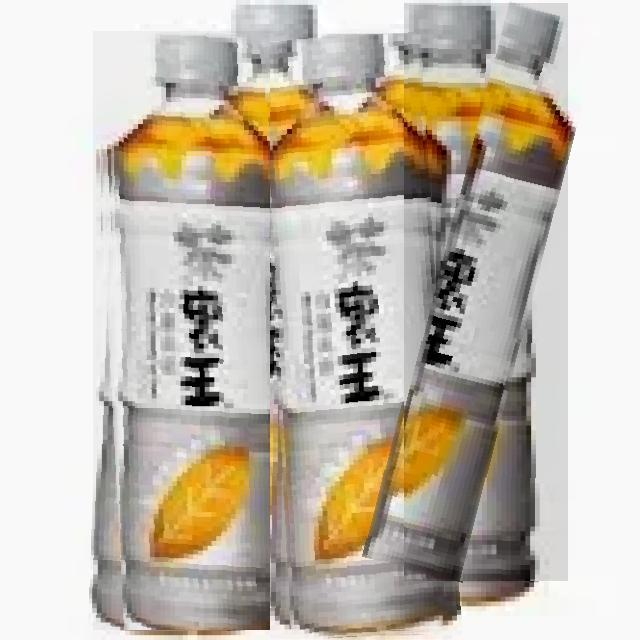ChaLiWong_WhiteOolong: (93, 31, 284, 630), (270, 34, 452, 639), (404, 3, 568, 581)
